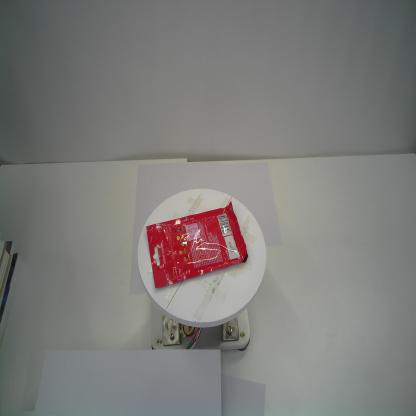Candy: (144, 199, 250, 289)
